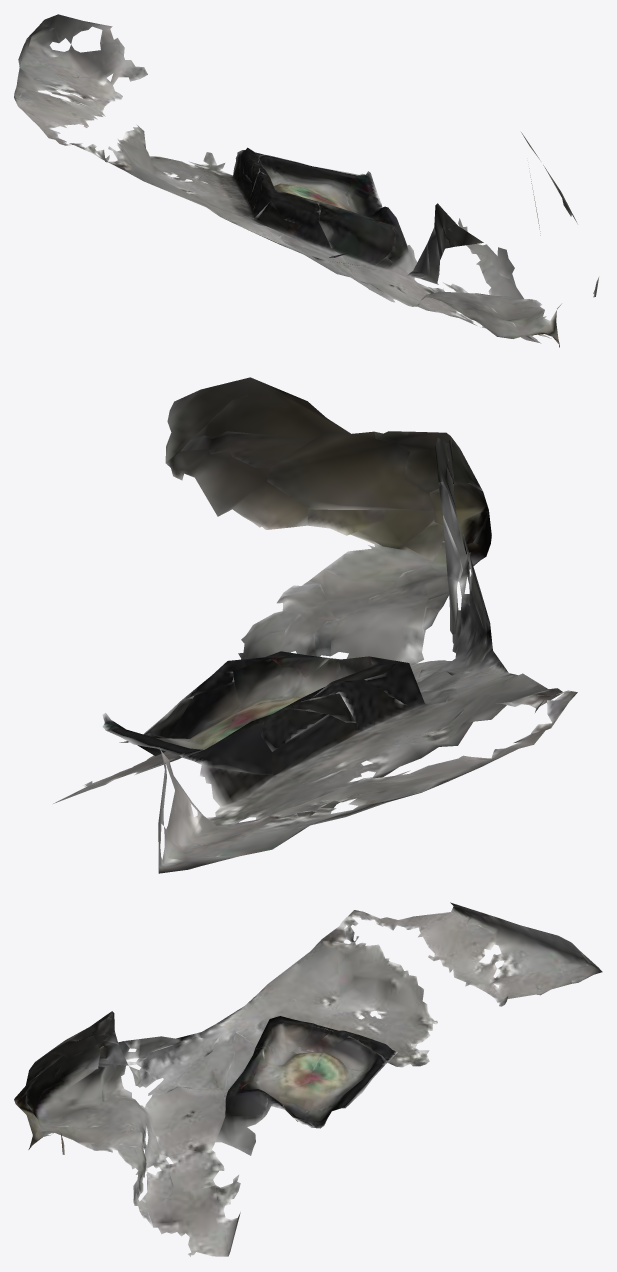
File: hall.glb
3 renders of one model, top to bottom at view 1: azimuth 30°, elevation 25°; view 2: azimuth 150°, elevation 25°; view 3: azimuth 270°, elevation 25°, orthographic. The views are drawn at different scales.
Size of the model in its own units: 0.8001 by 0.4483 by 1.23.
Materials: 1 (1 with a texture image).
